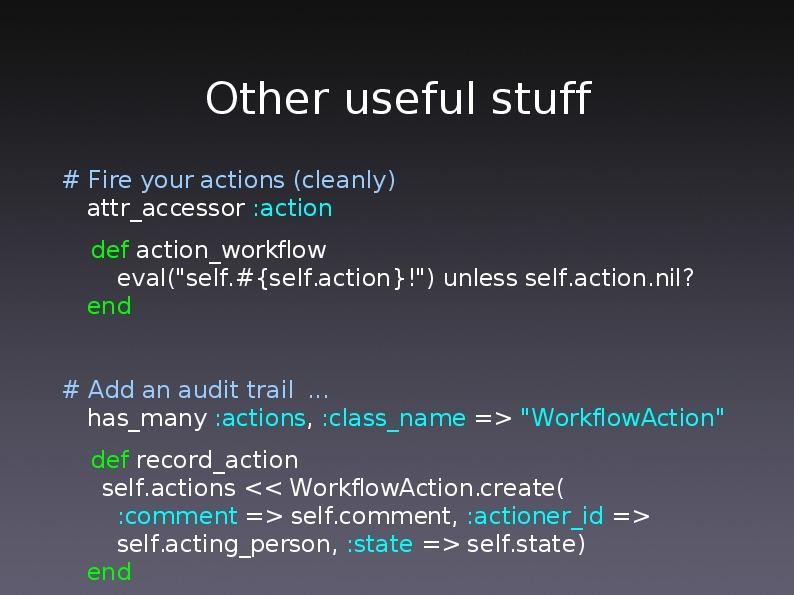paragraph: (55, 157, 731, 585)
title: (201, 65, 600, 122)
